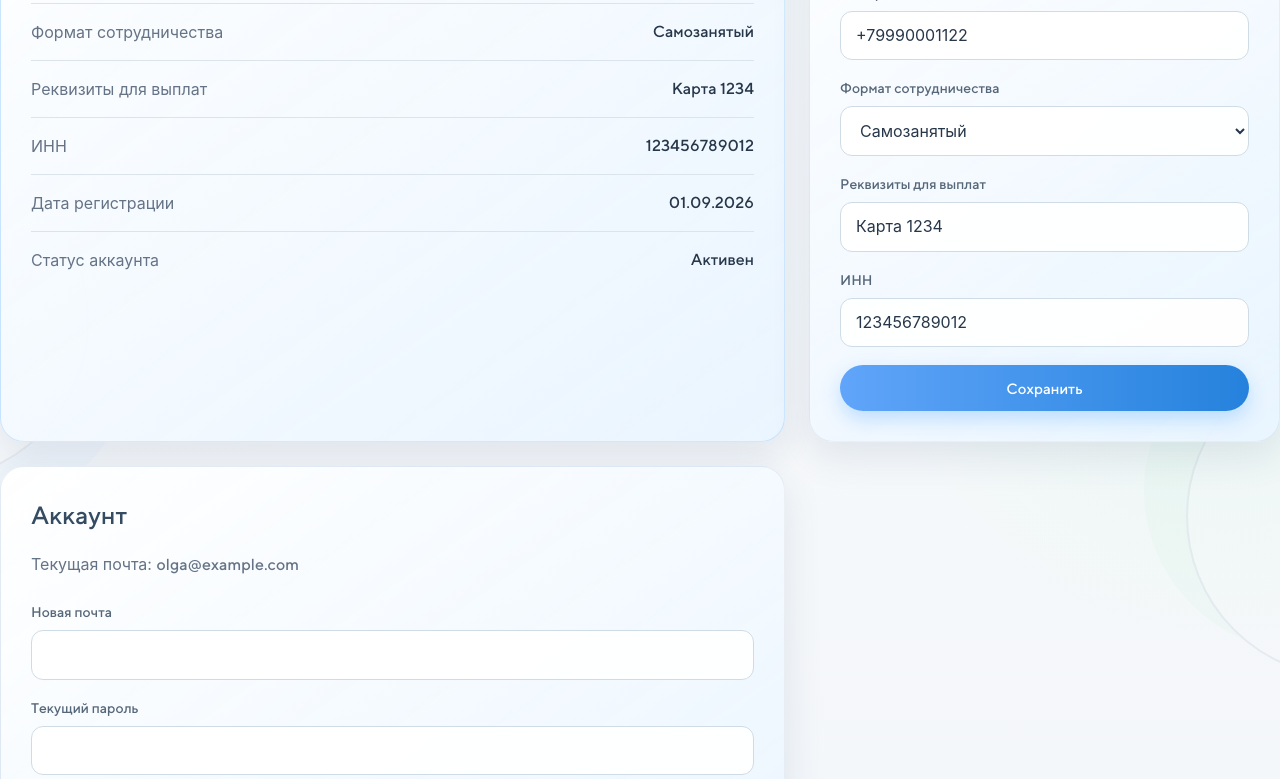
Test: ProfilePage › shows the backend's reason when the data is refused
(page scrolled)
Click the button "Сохранить".
click(1044, 388)  # box [840,365,1249,411]
(page scrolled)
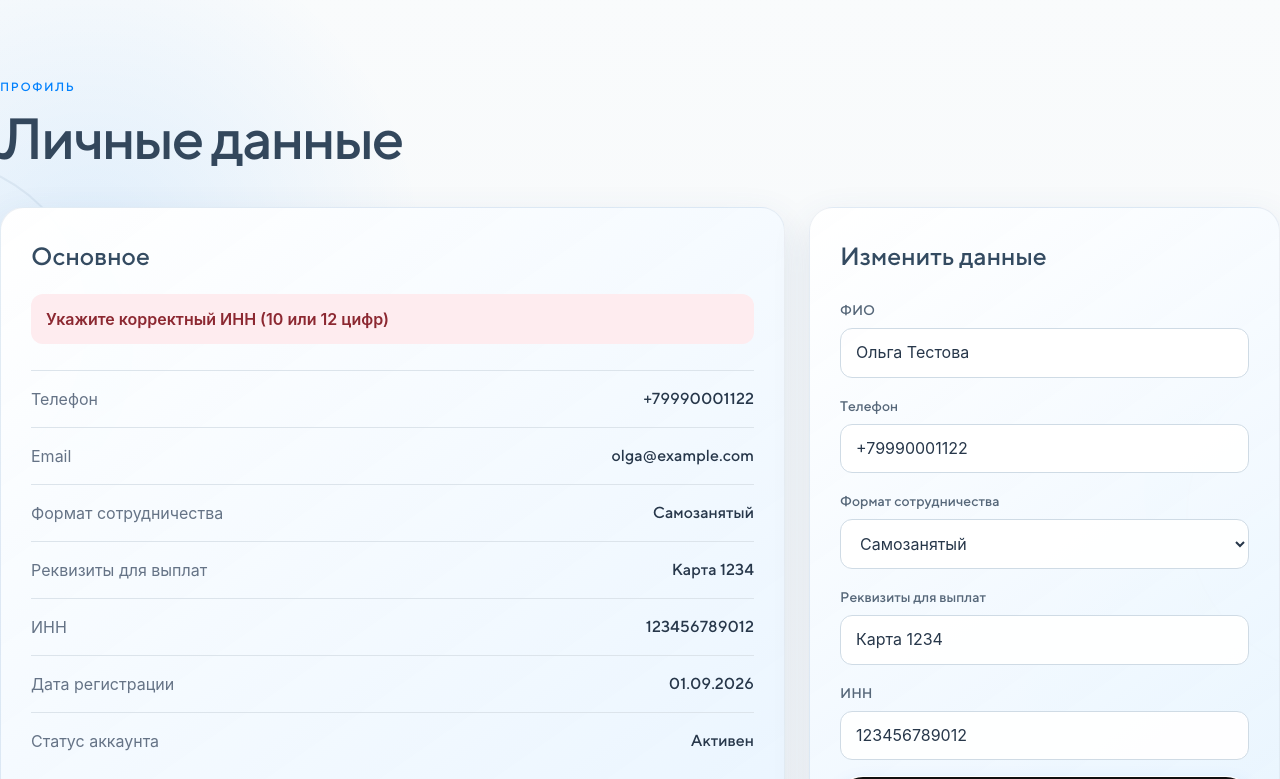
expect the message shows "Укажите корректный ИНН": met, box [46,309,389,329]
